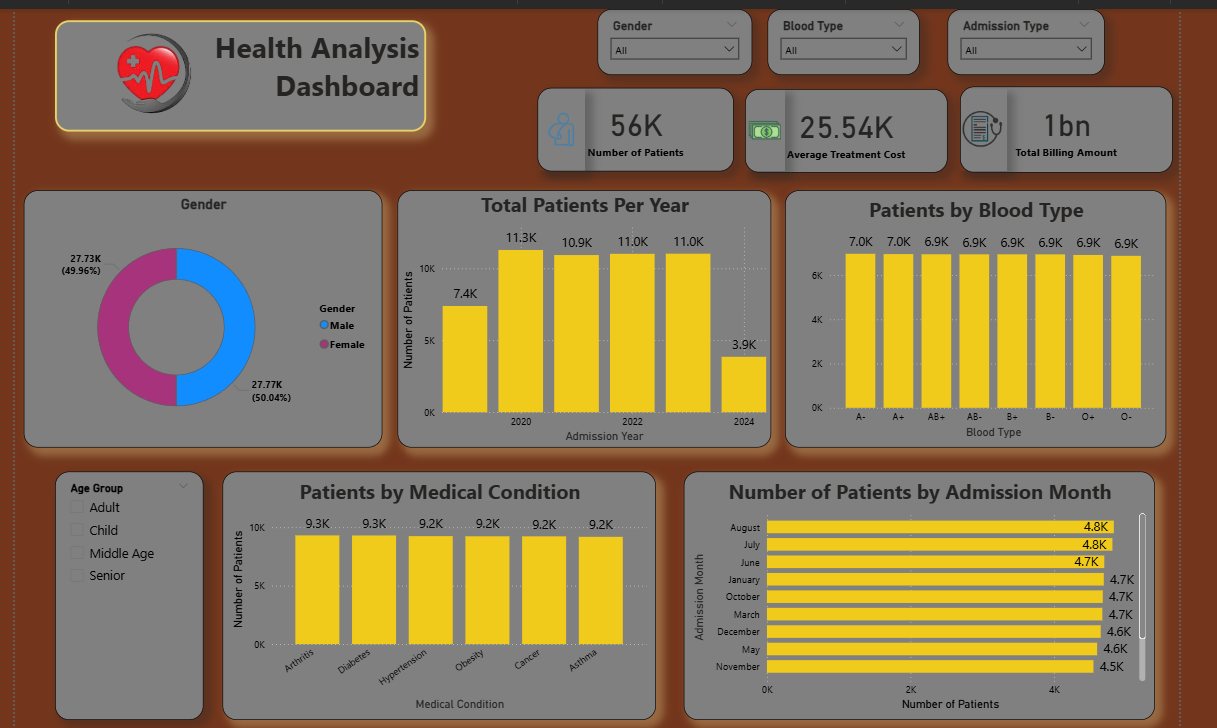

The page's visual inventory and layout, read from the dashboard file:
{"tool":"powerbi","page":{"name":"Page 1","canvas":[1480,920],"ordinal":0},"visuals":[{"type":"textbox","title":"Health Analysis Dashboard","box":[50.9,14.3,472.1,141.5],"z":0},{"type":"image","box":[39.7,0,267,155.8],"z":1000},{"type":"slicer","fields":{"Values":["healthcare_dataset.Gender"]},"box":[740.7,0,197.1,84.2],"z":2000},{"type":"slicer","fields":{"Values":["healthcare_dataset.Blood Type"]},"box":[956.9,0,193.9,84.2],"z":3000},{"type":"slicer","fields":{"Values":["healthcare_dataset.Admission Type"]},"box":[1185.8,0,200.3,84.2],"z":4000},{"type":"card","fields":{"Values":["healthcare_dataset.Number of Patients"]},"box":[664.4,100.1,249.6,106.5],"z":5000},{"type":"card","fields":{"Values":["healthcare_dataset.Average Treatment Cost"]},"box":[928.3,101.7,257.5,106.5],"z":6000},{"type":"card","fields":{"Values":["healthcare_dataset.Total Billing Amount"]},"box":[1201.7,98.5,270.2,109.7],"z":7000},{"type":"slicer","fields":{"Values":["healthcare_dataset.Age Group"]},"box":[50.9,588.1,189.2,316.3],"z":8000},{"type":"clusteredColumnChart","title":" Total Patients Per Year","fields":{"Category":["healthcare_dataset.Admission Year"],"Y":["healthcare_dataset.Number of Patients"]},"box":[486.4,230.5,475.3,327.4],"z":9000},{"type":"donutChart","title":"Gender","fields":{"Y":["CountNonNull(healthcare_dataset.Gender)"],"Category":["healthcare_dataset.Gender"]},"box":[11.1,230.5,456.2,327.4],"z":10000},{"type":"clusteredColumnChart","title":" Patients by Blood Type","fields":{"Y":["healthcare_dataset.Number of Patients"],"Category":["healthcare_dataset.Blood Type"]},"box":[979.1,230.5,484.8,327.4],"z":11000},{"type":"clusteredColumnChart","title":" Patients by Medical Condition","fields":{"Y":["healthcare_dataset.Number of Patients"],"Category":["healthcare_dataset.Medical Condition"]},"box":[263.9,588.1,551.6,316.3],"z":12000},{"type":"clusteredBarChart","fields":{"Y":["healthcare_dataset.Number of Patients"],"Category":["healthcare_dataset.Admission Month"]},"box":[850.4,588.1,599.2,316.3],"z":13000},{"type":"image","box":[664.4,101.7,60.4,104.9],"z":14000},{"type":"image","box":[928.3,101.7,50.9,104.9],"z":15000},{"type":"image","box":[1200.1,101.7,60.4,104.9],"z":16000}]}

Visuals, with their boxes in screenshot pixels (x1, y1, x2, y2):
"Health Analysis Dashboard" textbox: l=56, t=21, r=425, b=131
image: l=47, t=10, r=255, b=131
slicer - healthcare_dataset.Gender: l=595, t=10, r=749, b=75
slicer - healthcare_dataset.Blood Type: l=764, t=10, r=915, b=75
slicer - healthcare_dataset.Admission Type: l=942, t=10, r=1099, b=75
card - healthcare_dataset.Number of Patients: l=535, t=88, r=730, b=171
card - healthcare_dataset.Average Treatment Cost: l=741, t=89, r=942, b=172
card - healthcare_dataset.Total Billing Amount: l=955, t=86, r=1166, b=172
slicer - healthcare_dataset.Age Group: l=56, t=469, r=203, b=716
" Total Patients Per Year" clusteredColumnChart: l=396, t=190, r=767, b=445
"Gender" donutChart: l=25, t=190, r=381, b=445
" Patients by Blood Type" clusteredColumnChart: l=781, t=190, r=1160, b=445
" Patients by Medical Condition" clusteredColumnChart: l=222, t=469, r=653, b=716
clusteredBarChart - healthcare_dataset.Number of Patients x healthcare_dataset.Admission Month: l=680, t=469, r=1149, b=716
image: l=535, t=89, r=582, b=171
image: l=741, t=89, r=781, b=171
image: l=954, t=89, r=1001, b=171
